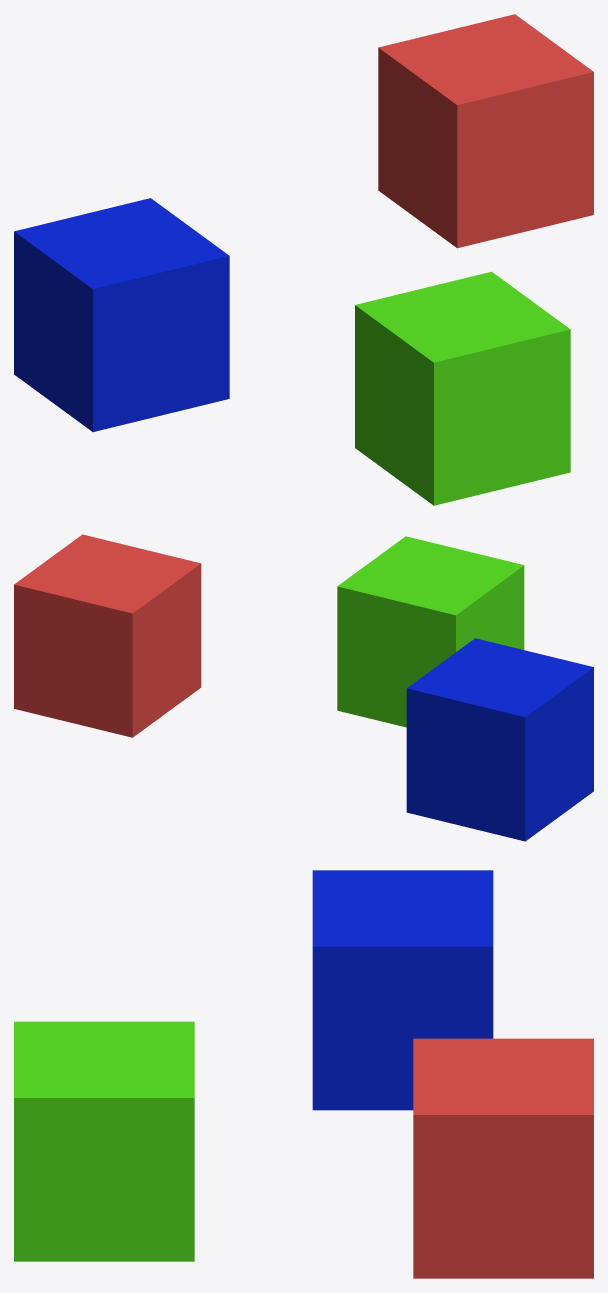
File: cube_layout.fbx
3 renders of one model, top to bottom at view 1: azimuth 30°, elevation 25°; view 2: azimuth 150°, elevation 25°; view 3: azimuth 270°, elevation 25°, orthographic. The views are drawn at different scales.
Visible parts, largest first — view 1: Cube.001, Cube.002, Cube; view 2: Cube, Cube.001, Cube.002; view 3: Cube.001, Cube.002, Cube.
Boxes of the visible parts, bbox=[...] form: Cube.001: bbox=[378, 14, 593, 248]; Cube.002: bbox=[355, 271, 570, 505]; Cube: bbox=[14, 198, 229, 431]; Cube: bbox=[406, 638, 593, 841]; Cube.001: bbox=[14, 534, 201, 737]; Cube.002: bbox=[337, 536, 524, 727]; Cube.001: bbox=[413, 1038, 593, 1278]; Cube.002: bbox=[14, 1021, 194, 1261]; Cube: bbox=[312, 870, 493, 1110].
Size of what is drawn, in the model's own units: 797 by 314 by 642.
